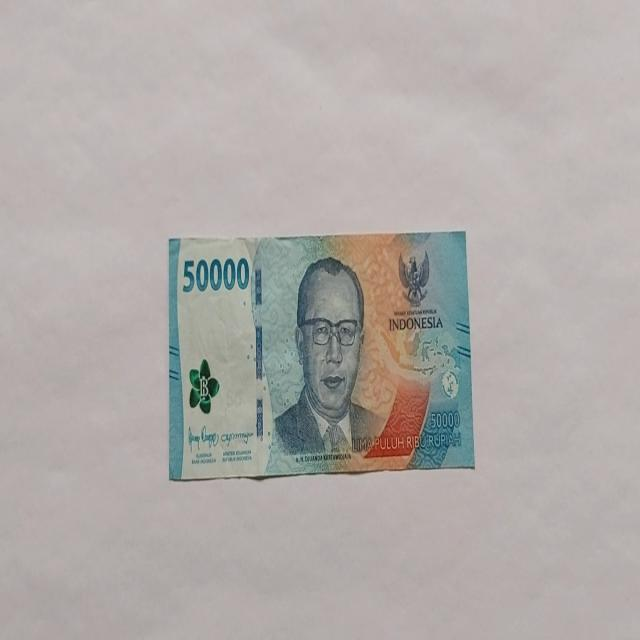lima puluh ribu rupiah: (168, 230, 474, 482), (266, 255, 386, 470)
